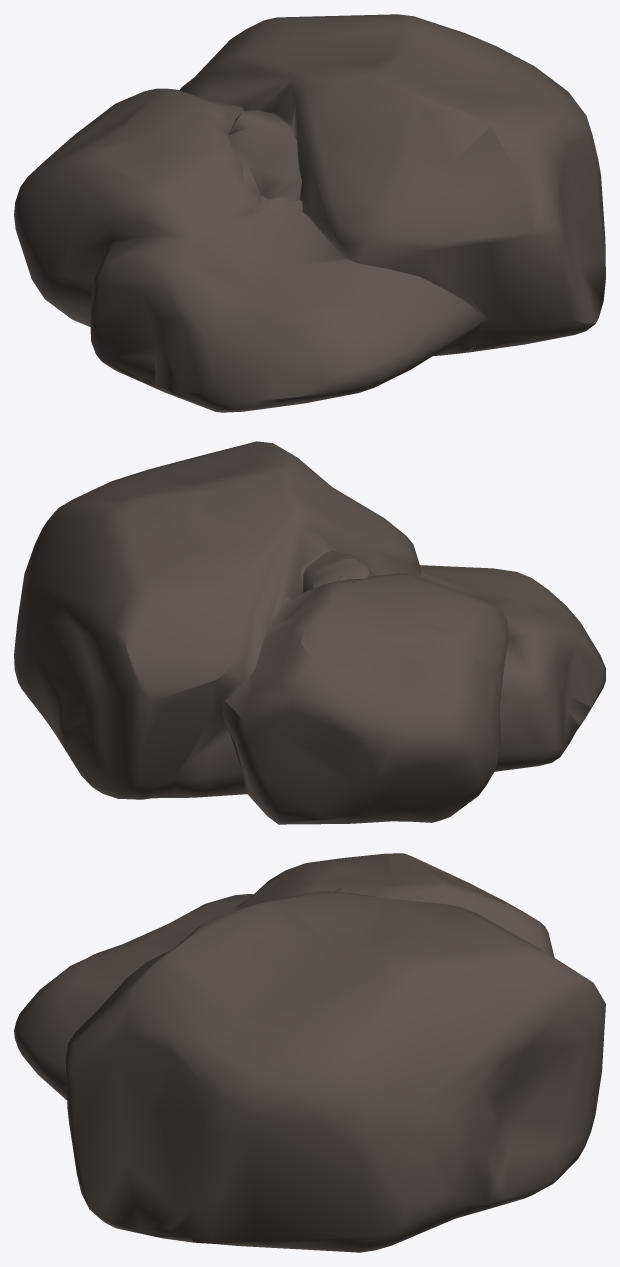
File: Environment_Cliff1.medium.gltf
3 renders of one model, top to bottom at view 1: azimuth 30°, elevation 25°; view 2: azimuth 150°, elevation 25°; view 3: azimuth 270°, elevation 25°, orthographic. The views are drawn at different scales.
Visible parts, largest first — view 1: Environment_Cliff1; view 2: Environment_Cliff1; view 3: Environment_Cliff1.
Boxes of the visible parts, bbox=[...] form: Environment_Cliff1: bbox=[14, 14, 605, 412]; Environment_Cliff1: bbox=[14, 441, 605, 824]; Environment_Cliff1: bbox=[14, 853, 605, 1252].
Bounding box in the file's own units: 5.62 × 2.96 × 5.4.
1 material, 1 textured.
